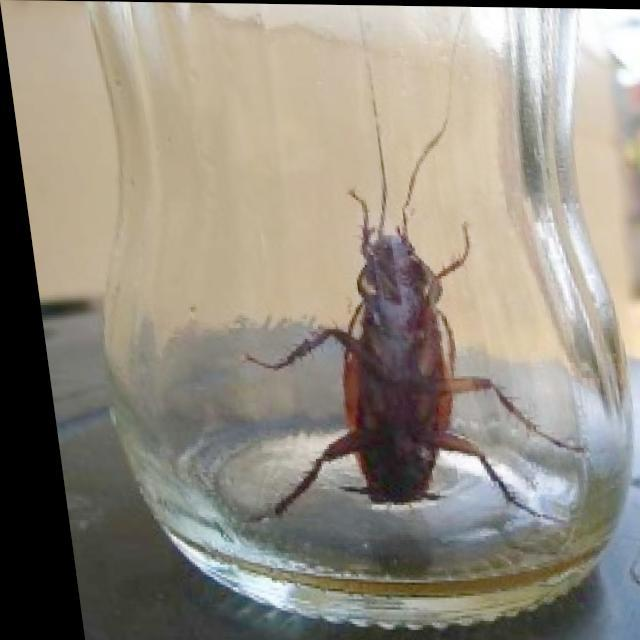cockroach: (237, 115, 588, 525)
